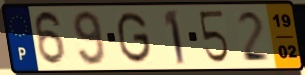1: (162, 9, 188, 67)
2: (233, 10, 271, 63)
5: (196, 9, 230, 65)
6: (33, 9, 70, 69)
9: (70, 8, 108, 68)
G: (116, 10, 154, 65)
